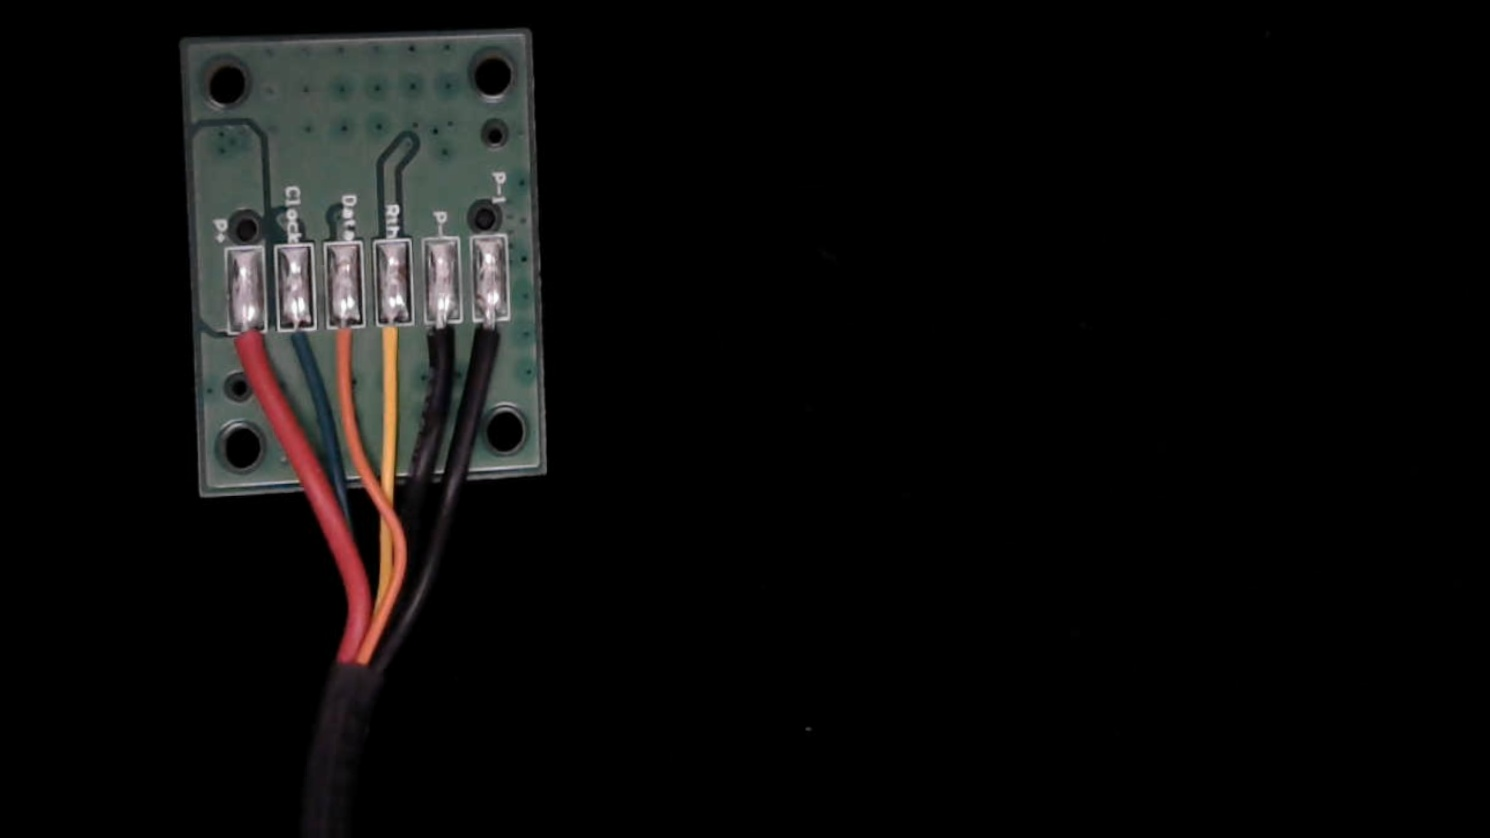Black: (422, 301, 464, 386)
Black1: (471, 298, 512, 389)
Green: (276, 306, 317, 386)
Orange: (325, 307, 366, 393)
Red: (226, 312, 270, 408)
Yellow: (371, 302, 411, 390)
